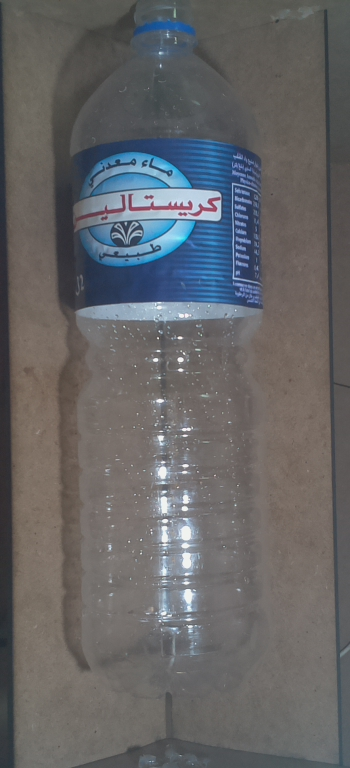Bouteille_2L: (59, 2, 272, 697)
